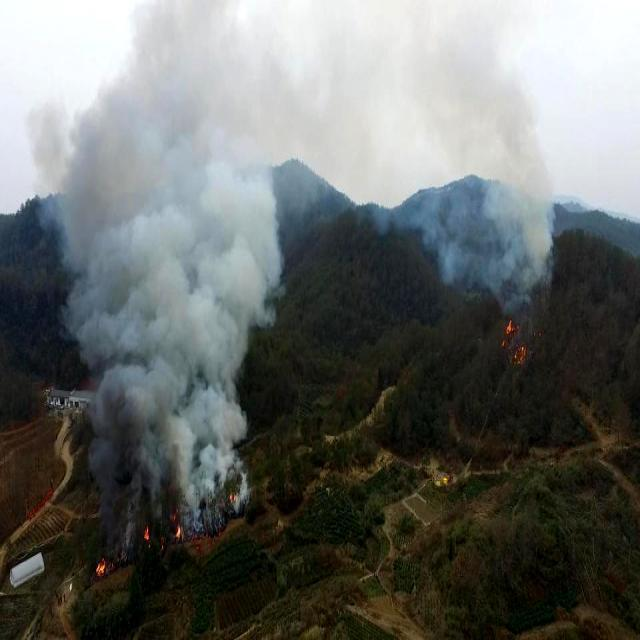Smoke: (45, 0, 290, 523), (422, 32, 564, 320)
